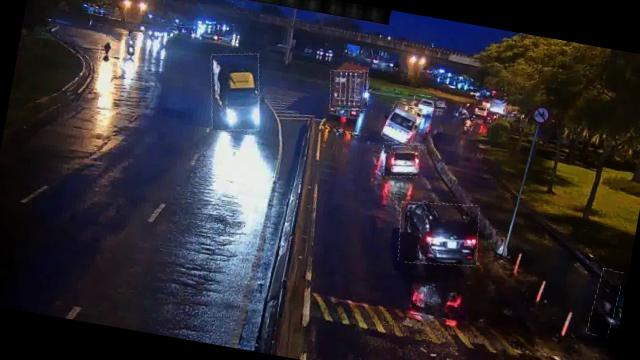Bike: (588, 268, 622, 338), (98, 37, 113, 61), (122, 39, 138, 59)
Bus: (382, 100, 423, 146)
Car: (393, 195, 484, 272), (380, 138, 422, 180), (411, 94, 440, 116)
Truck: (202, 48, 270, 136), (326, 66, 372, 113)
